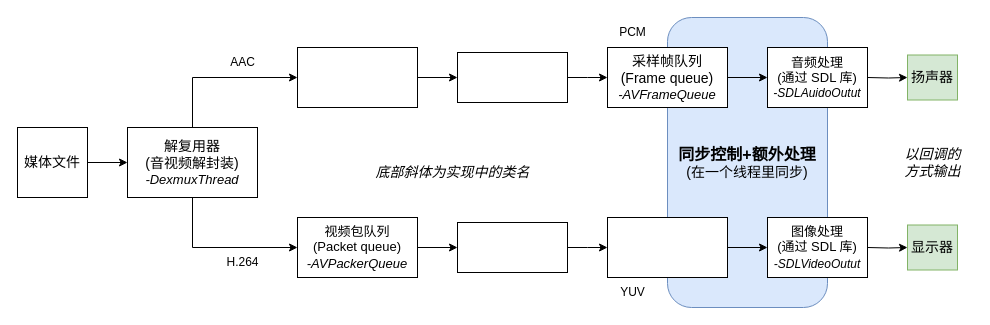
Image size: 990x325. Some labels were removed from this diagram. The shapes that lost their labels are listed below. From the top down, each one's centre as x and y in pixels, then its label:
At (x=357, y=77): "音频包队列 (Packet queue) -AVPackerQueue".
At (x=512, y=77): "音频解码 -DecodeThread".
At (x=512, y=247): "视频解码 -DecodeThread".
At (x=667, y=247): "图像帧队列 (Frame queue) -AVFrameQueue".
